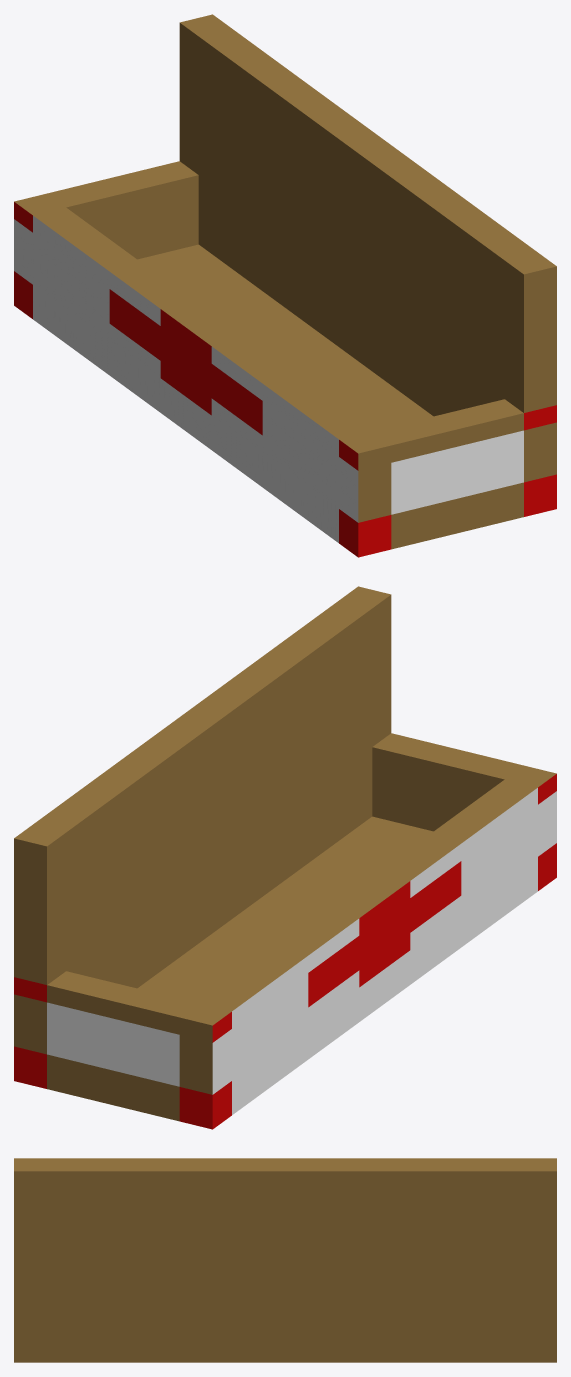
File: openaid.glb
3 renders of one model, top to bottom at view 1: azimuth 30°, elevation 25°; view 2: azimuth 150°, elevation 25°; view 3: azimuth 270°, elevation 25°, orthographic. The views are drawn at different scales.
Parts seen in each view (by area): view 1: Cube.001; view 2: Cube.001; view 3: Cube.001.
Part boxes in pixels (box(x1,y1,x2,y2)): Cube.001: box(14, 14, 556, 557); Cube.001: box(14, 586, 556, 1129); Cube.001: box(14, 1158, 556, 1362).
Bounding box in the file's own units: 6 × 7 × 18.
